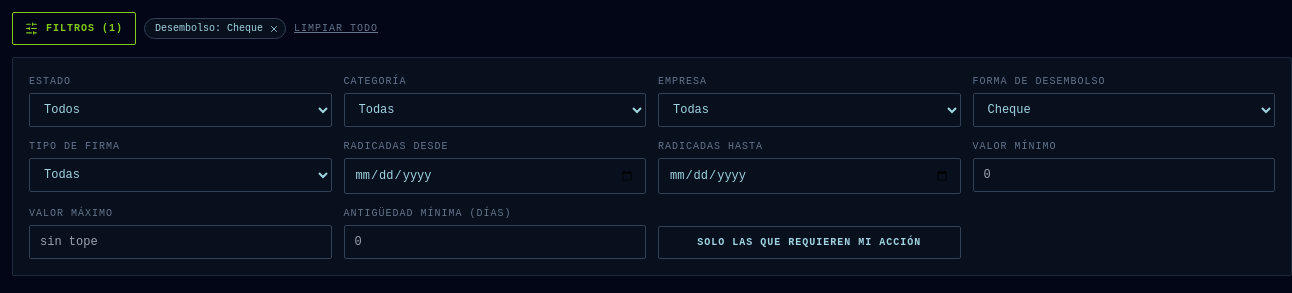
Test: Panel de filtros › "limpiar todo" aparece con filtros y los quita
This screenshot has width=1292, height=293.
Click the button "LIMPIAR TODO" at [336, 28], box x1=294 y1=21 x2=378 y2=36
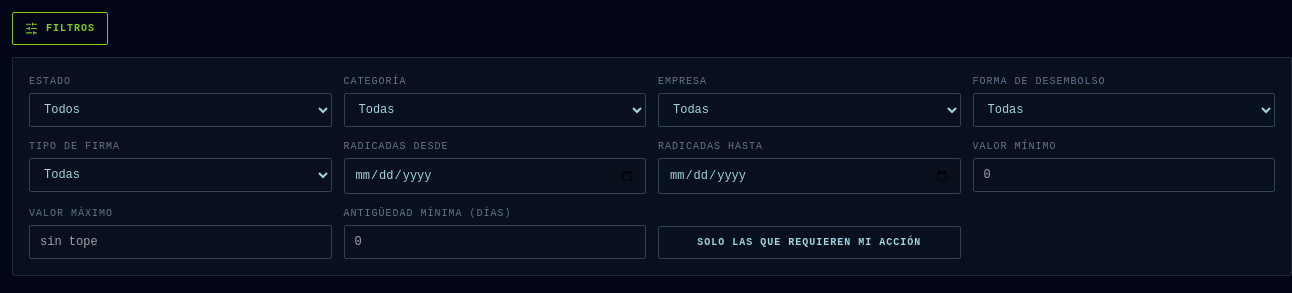
Expected: the button "FILTROS" is shown, x1=12 y1=12 x2=108 y2=45
Expected: the button "LIMPIAR TODO" is gone
